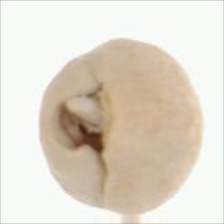L3: (57, 81, 112, 162)
L4: (39, 38, 202, 214)
